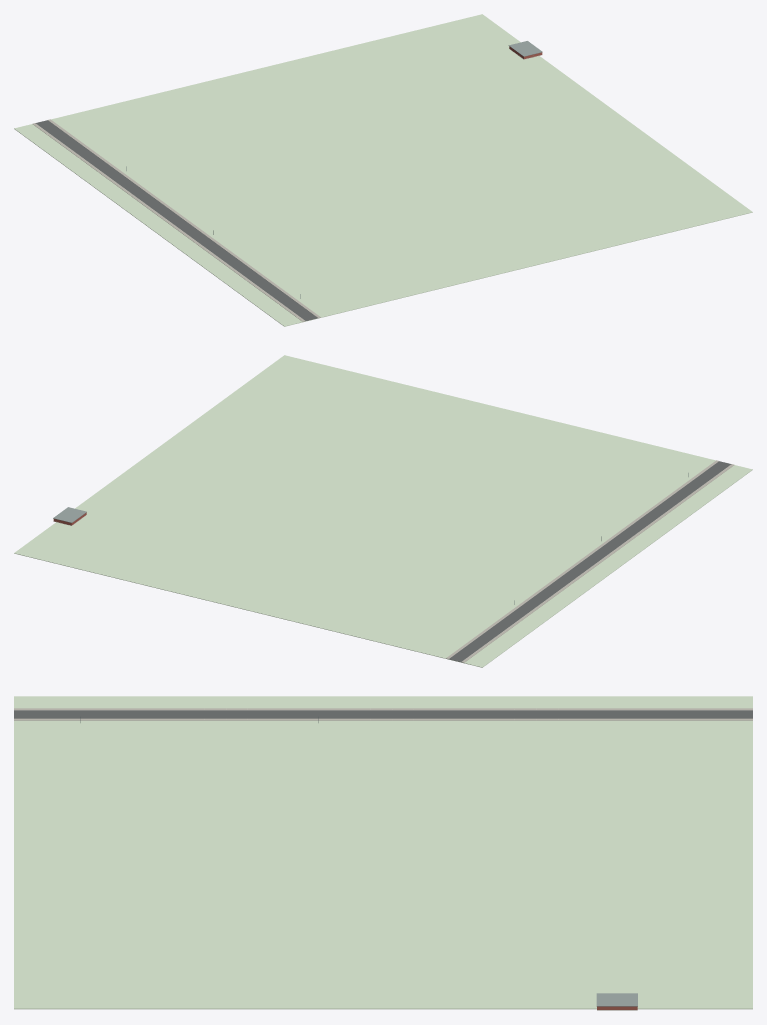
File: chunk_4_6_low.glb
The picture shows the model from 3 angles, top to bottom: view 1: azimuth 30°, elevation 25°; view 2: azimuth 150°, elevation 25°; view 3: azimuth 270°, elevation 25°; orthographic projection. The views are drawn at different scales.
Visible parts, largest first — view 1: city_grass, city_world_asphalt, city_world_sidewalk, city_curb; view 2: city_grass, city_world_asphalt, city_world_sidewalk, city_curb; view 3: city_grass, city_world_asphalt, city_world_sidewalk, city_curb, city_roof_slate.
Boxes of the visible parts, x1,y1,x2,y2 form: city_grass: (14,14,752,326); city_world_asphalt: (35,120,317,320); city_world_sidewalk: (32,119,320,321); city_curb: (35,120,317,320); city_grass: (14,355,752,667); city_world_asphalt: (449,461,731,661); city_world_sidewalk: (446,460,734,662); city_curb: (449,461,731,661); city_grass: (14,696,752,1009); city_world_asphalt: (14,710,752,718); city_world_sidewalk: (14,708,752,720); city_curb: (14,708,752,719); city_roof_slate: (596,993,637,1006).
Size of the model in its own units: 515 by 5.42 by 512.
